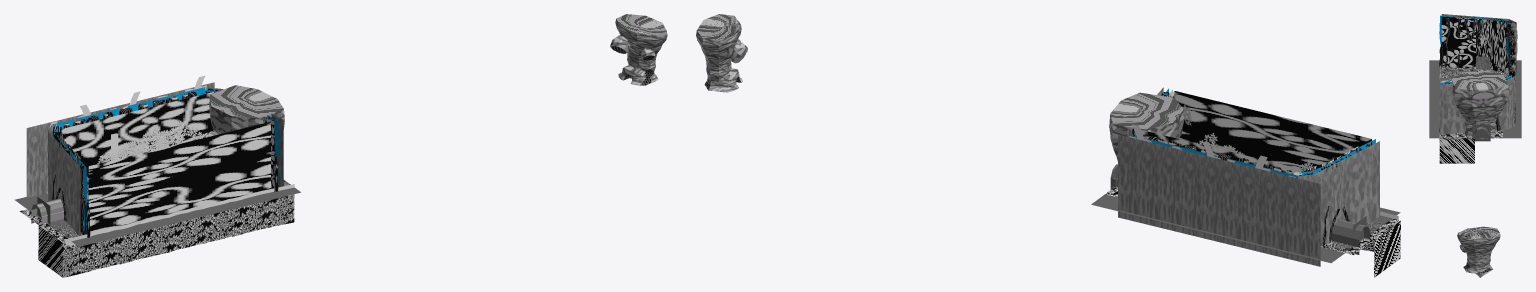
File: mri_08_bake.dae
3 views of the same model, side by side, from view 1: azimuth 30°, elevation 25°; view 2: azimuth 150°, elevation 25°; view 3: azimuth 270°, elevation 25° (orthographic). The views are drawn at different scales.
Visible parts, largest first — view 1: polySurface131_q00002, polySurface119_q00018, polySurface110_q00016, polySurface132_q00007_part1, polySurface91_q00024_part1, polySurface128_q00000, S_l_okuA_part1, S_oku_01A, polySurface118_q00017, polySurface120_q00019, A_ueki03, A_doa_l_fream (+6 smaller); view 2: S_oku_01A, polySurface131_q00002, S_l_okuA_part1, polySurface132_q00007_part1, polySurface91_q00024_part1, polySurface128_q00000, polySurface119_q00018, S_l_okuA_part0, S_oku_01H_01; view 3: polySurface131_q00002, polySurface132_q00007_part1, polySurface128_q00000, S_r_okuA_part1, polySurface91_q00024_part1, polySurface110_q00016, S_oku_01H_01, pPlane27, S_oku_01D, S_r_okuC010, polySurface90_q00023, S_l_okuA_part1 (+11 smaller).
Part boxes in pixels (left/top/right/bottom): polySurface131_q00002: left=61, top=92, right=270, bottom=232; polySurface119_q00018: left=38, top=225, right=141, bottom=277; polySurface110_q00016: left=191, top=194, right=294, bottom=245; polySurface132_q00007_part1: left=209, top=85, right=284, bottom=134; polySurface91_q00024_part1: left=615, top=14, right=667, bottom=85; polySurface128_q00000: left=14, top=180, right=300, bottom=246; S_l_okuA_part1: left=48, top=124, right=80, bottom=235; S_oku_01A: left=26, top=82, right=214, bottom=197; polySurface118_q00017: left=141, top=219, right=191, bottom=258; polySurface120_q00019: left=65, top=184, right=294, bottom=246; A_ueki03: left=76, top=122, right=91, bottom=166; A_doa_l_fream: left=31, top=199, right=63, bottom=223; S_oku_01A: left=1118, top=134, right=1320, bottom=266; polySurface131_q00002: left=1141, top=91, right=1371, bottom=174; S_l_okuA_part1: left=1298, top=141, right=1379, bottom=245; polySurface132_q00007_part1: left=1109, top=92, right=1183, bottom=160; polySurface91_q00024_part1: left=696, top=14, right=742, bottom=92; polySurface128_q00000: left=1091, top=194, right=1400, bottom=263; polySurface119_q00018: left=1361, top=221, right=1400, bottom=277; S_l_okuA_part0: left=1332, top=220, right=1370, bottom=254; S_oku_01H_01: left=1105, top=187, right=1400, bottom=254; polySurface131_q00002: left=1441, top=16, right=1505, bottom=81; polySurface132_q00007_part1: left=1451, top=70, right=1508, bottom=137; polySurface128_q00000: left=1429, top=60, right=1521, bottom=138; S_r_okuA_part1: left=1439, top=76, right=1514, bottom=134; polySurface91_q00024_part1: left=1457, top=226, right=1500, bottom=277; polySurface110_q00016: left=1439, top=138, right=1474, bottom=163; S_oku_01H_01: left=1439, top=67, right=1507, bottom=138; pPlane27: left=1472, top=124, right=1490, bottom=141; S_oku_01D: left=1509, top=32, right=1515, bottom=123; S_r_okuC010: left=1439, top=16, right=1450, bottom=67; polySurface90_q00023: left=1461, top=227, right=1497, bottom=273; S_l_okuA_part1: left=1441, top=14, right=1516, bottom=72.
Bounding box in the file's own units: 280 × 49.64 × 50.
